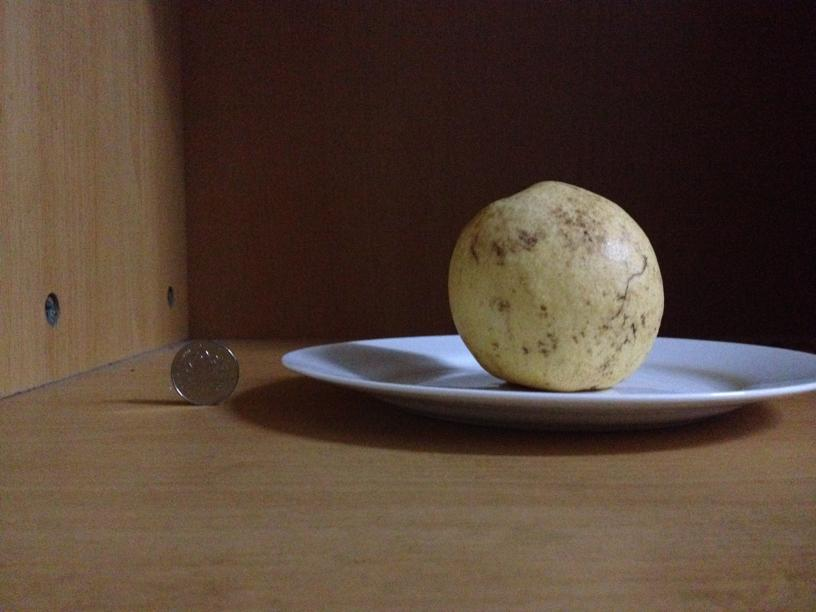coin: (166, 336, 243, 407)
pear: (439, 177, 663, 392)
